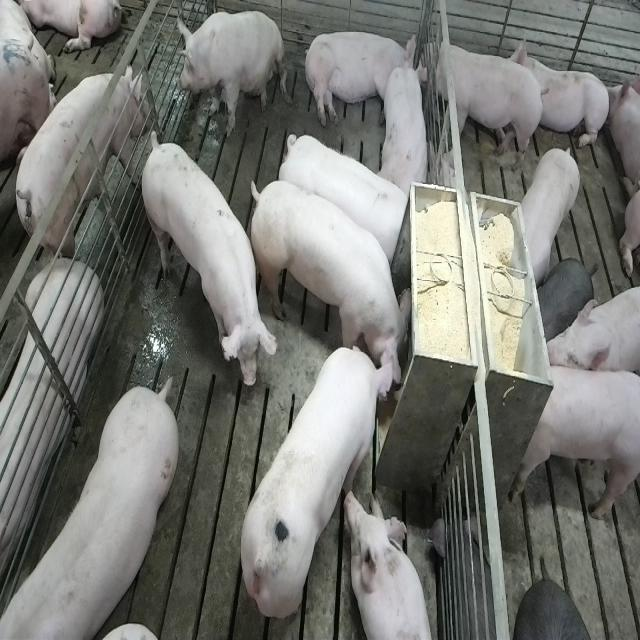Feeding: (238, 340, 398, 622), (252, 175, 419, 398)
Lateral_lying: (302, 28, 418, 129)
Sitting: (176, 7, 286, 137)
Standing: (0, 380, 176, 639), (137, 130, 273, 393), (9, 63, 145, 266), (511, 367, 638, 522), (278, 127, 411, 264), (424, 29, 546, 173), (516, 142, 584, 285), (544, 282, 640, 372), (536, 256, 597, 340)
Sternal_lying: (0, 260, 100, 600), (347, 488, 436, 640), (516, 35, 612, 154), (380, 50, 432, 198)
